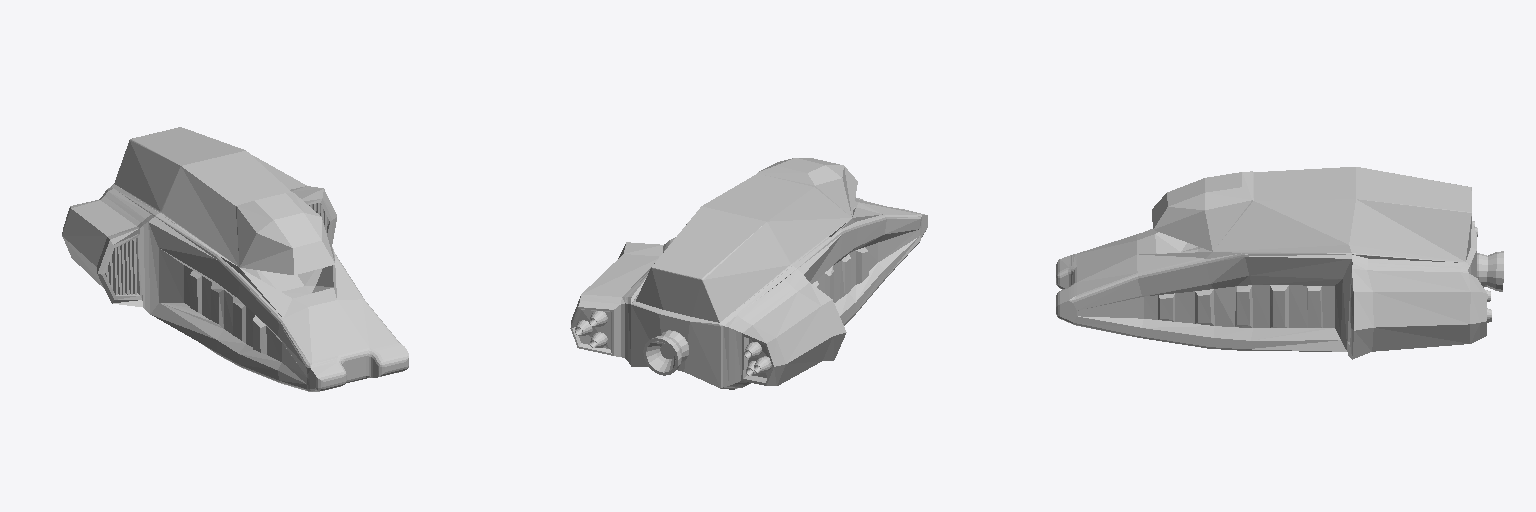
File: Nave.obj
The picture shows the model from 3 angles: view 1: azimuth 30°, elevation 25°; view 2: azimuth 150°, elevation 25°; view 3: azimuth 270°, elevation 25°; orthographic projection.
Parts seen in each view (by area): view 1: Cube_Cube.001; view 2: Cube_Cube.001, Cylinder.003_Cylinder.004; view 3: Cube_Cube.001, Cylinder.003_Cylinder.004.
Boxes of the visible parts, x1=… form: Cube_Cube.001: x1=62, y1=127, x2=408, y2=391; Cube_Cube.001: x1=570, y1=158, x2=927, y2=389; Cylinder.003_Cylinder.004: x1=643, y1=330, x2=688, y2=375; Cube_Cube.001: x1=1056, y1=167, x2=1487, y2=359; Cylinder.003_Cylinder.004: x1=1477, y1=251, x2=1503, y2=291.
Size of the model in its own units: 16.94 by 10.1 by 27.69.